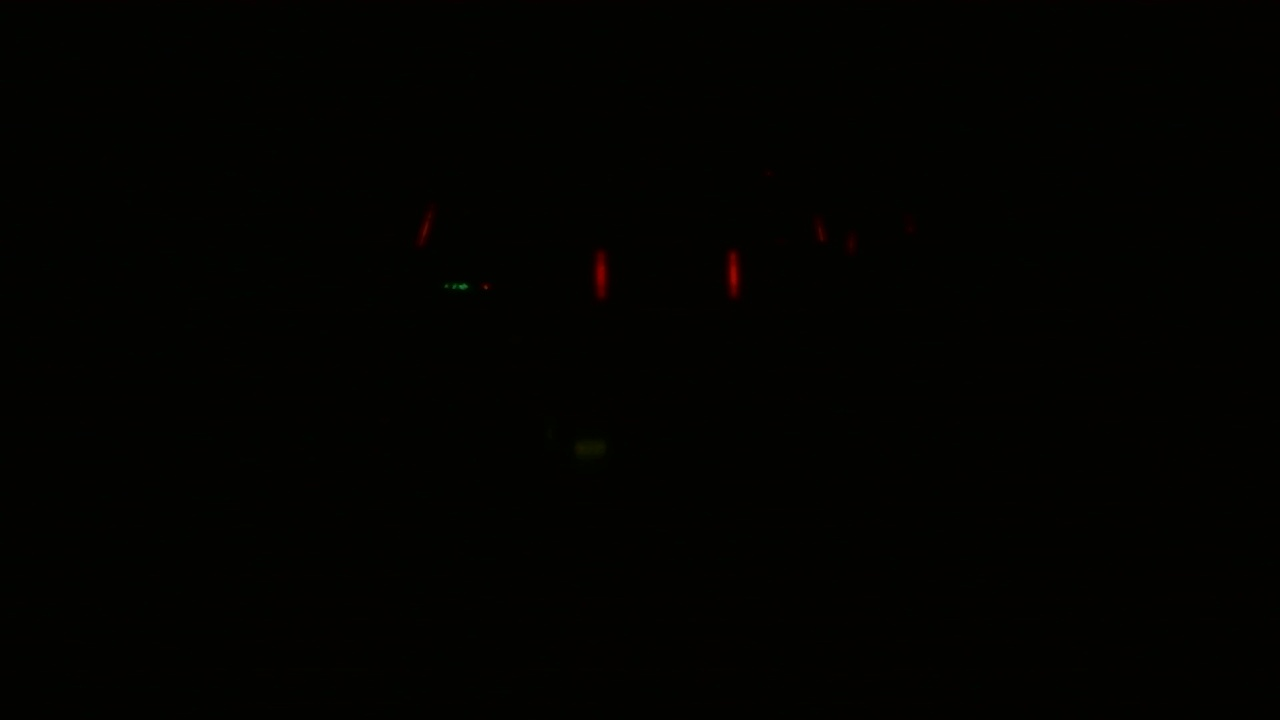pair1: (586, 242, 743, 298)
